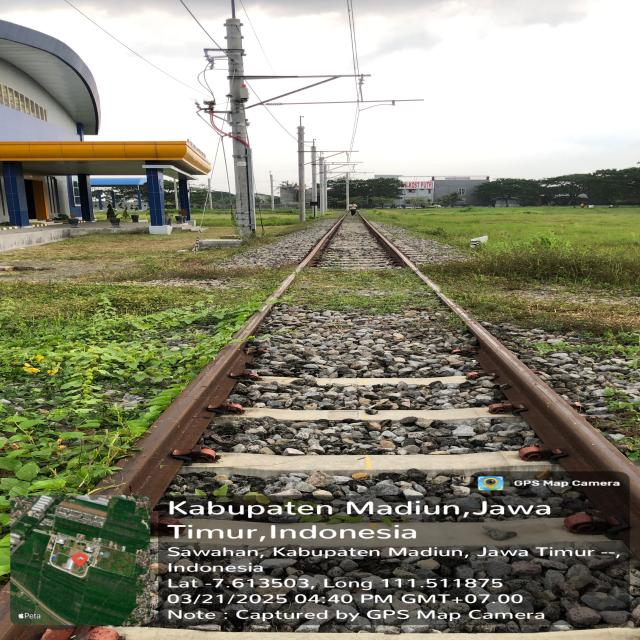rail-detection: (360, 216, 640, 558), (99, 216, 345, 510)
